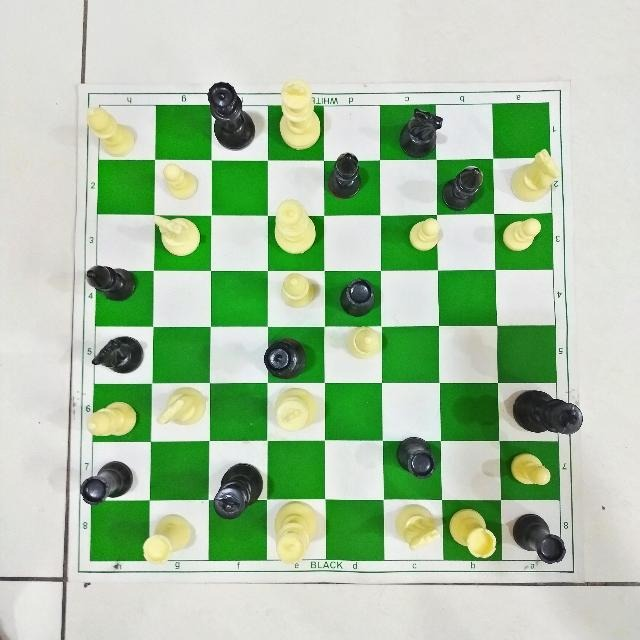black-bishop: (81, 254, 143, 304), (320, 152, 366, 204), (441, 160, 486, 212)
black-king: (511, 377, 587, 444), (212, 453, 267, 522)
black-knight: (91, 327, 149, 377), (400, 100, 444, 160)
black-queen: (205, 77, 257, 153), (265, 331, 317, 383)
black-rook: (510, 503, 569, 569), (80, 457, 135, 509), (395, 428, 441, 486), (335, 272, 380, 320)
white-bishop: (86, 98, 139, 160), (84, 390, 139, 442), (342, 320, 385, 368), (274, 265, 318, 309)
white-king: (272, 72, 324, 150), (269, 383, 321, 435)
white-knight: (506, 150, 564, 202), (151, 208, 206, 262), (157, 380, 209, 432), (397, 500, 443, 555)
white-pawn: (499, 207, 545, 264), (404, 207, 452, 257), (161, 158, 205, 203), (509, 447, 552, 493)
white-queen: (270, 491, 322, 565), (274, 196, 320, 260)
white-rook: (448, 501, 502, 567), (140, 508, 194, 570)
